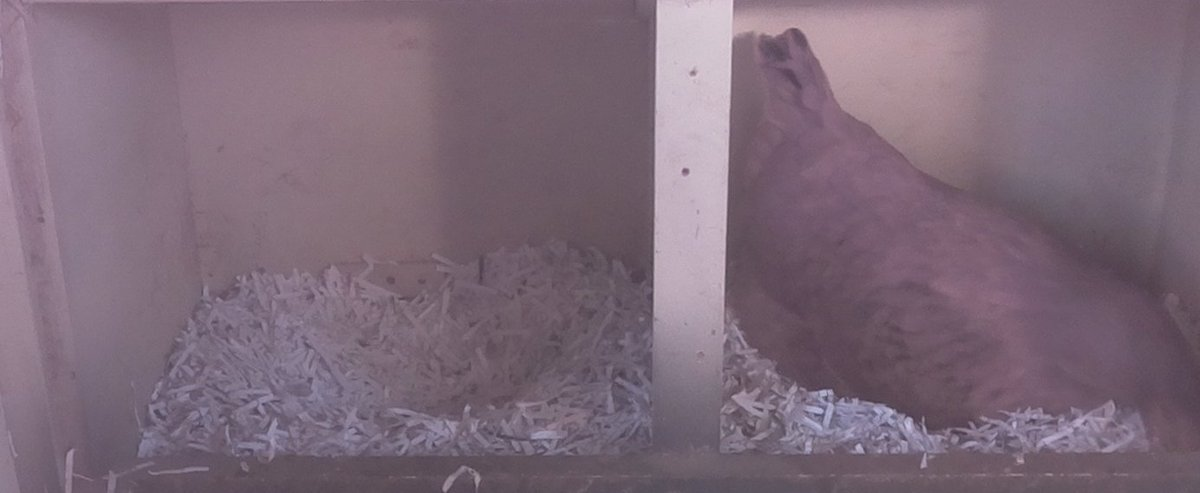hen: (735, 28, 1200, 449)
